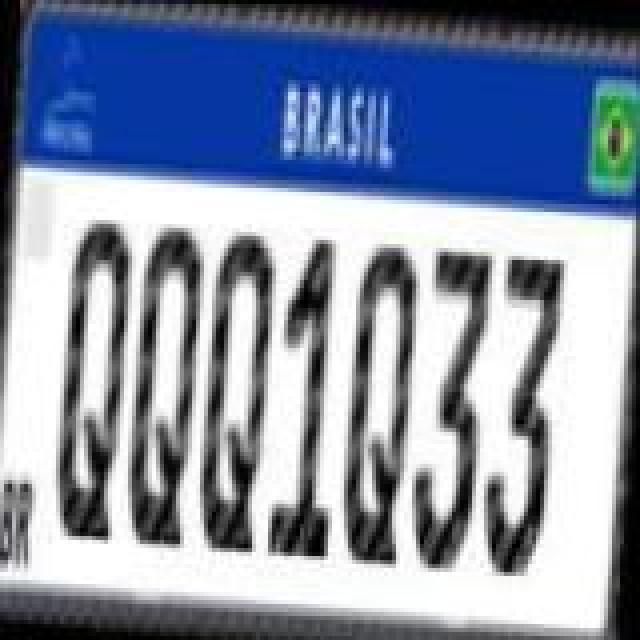1: (266, 232, 350, 560)
3: (476, 250, 564, 586), (410, 242, 494, 574)
Q: (50, 216, 134, 548), (122, 222, 206, 546), (196, 222, 276, 554), (340, 234, 420, 562)
